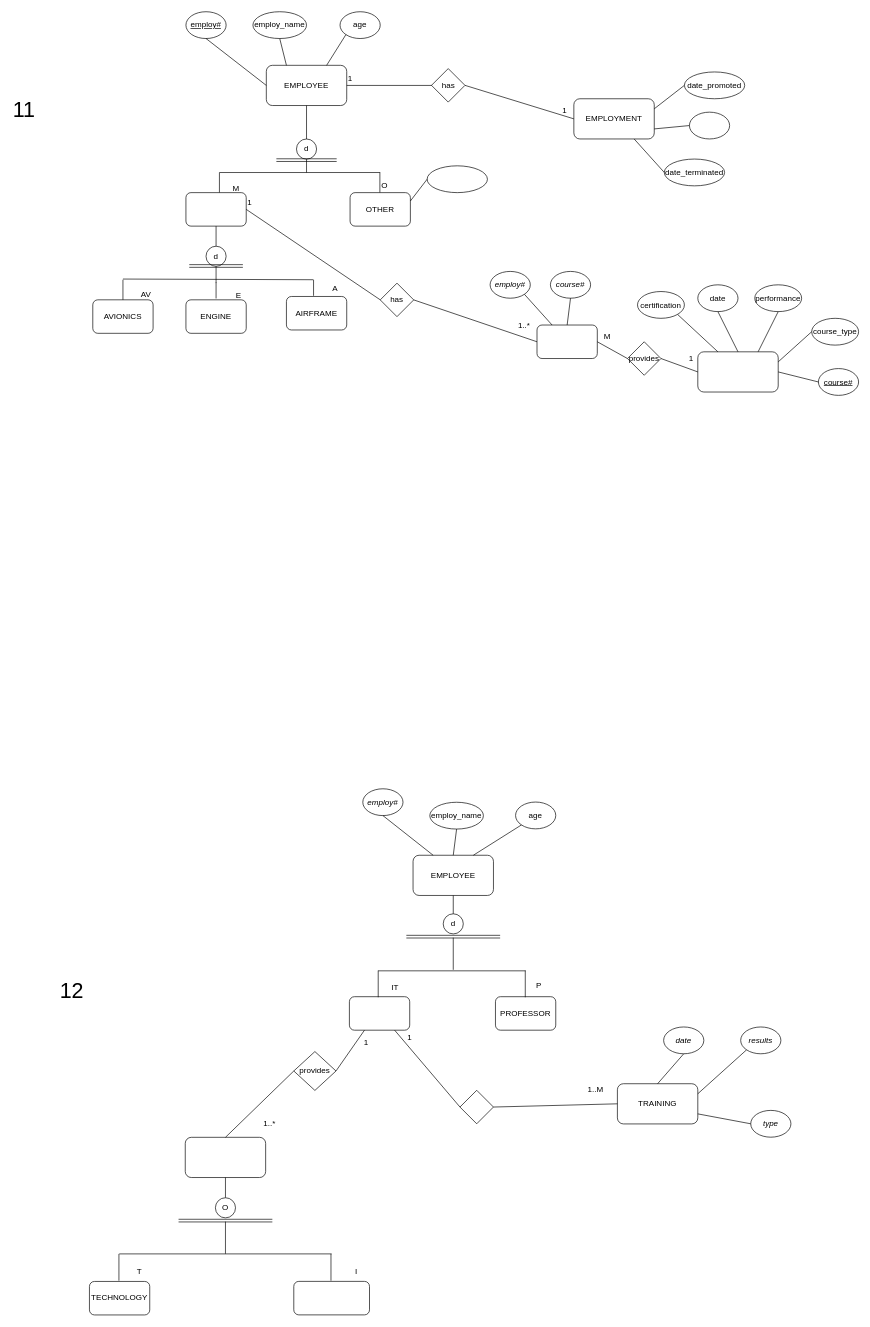
This 870x1327 diagram has some shape labels left out. The centre of each missing label's shape, as x and y in pixels:
"COURSE" goes at point 737,371.
"date_hired" goes at point 709,125.
"ENROLLMENT" goes at point 566,341.
"INFRASTRUCTURE" goes at point 331,1298.
"IT PERSONNEL" goes at point 379,1013.
"job_description" goes at point 456,179.
"MECHANIC" goes at point 215,209.
"SUPPORT" goes at point 225,1157.
"takes" goes at point 476,1107.
